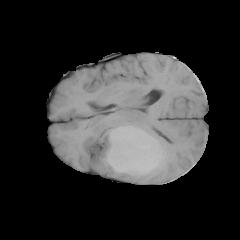glioma: (76, 112, 168, 182)
